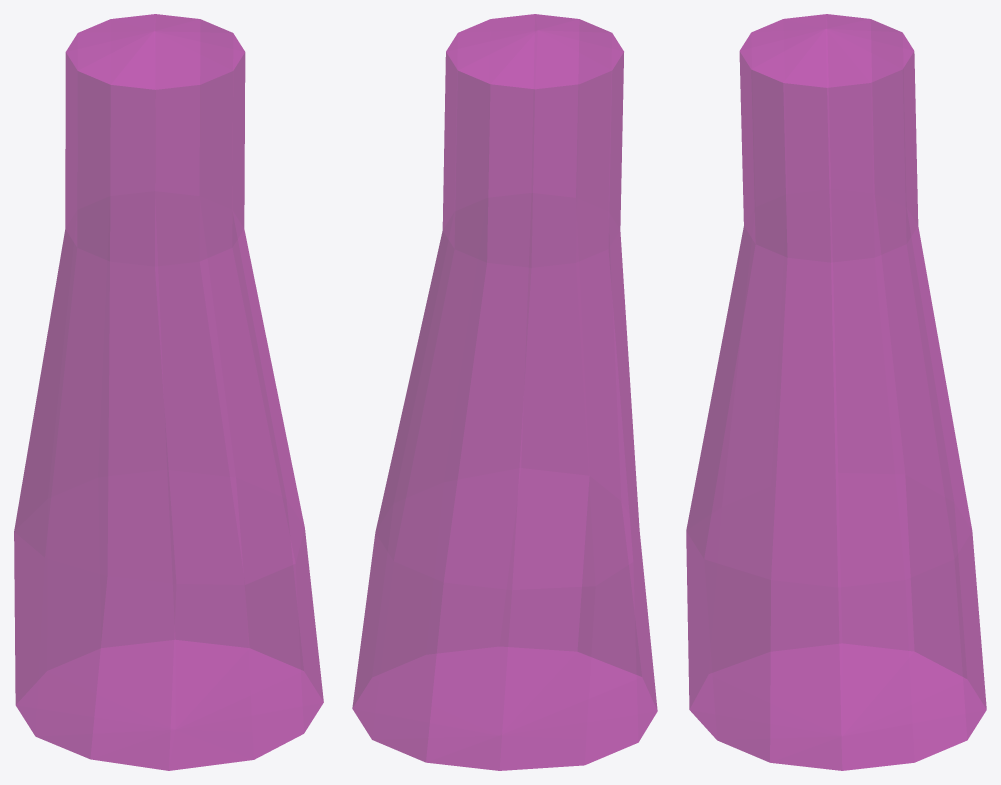
The model's file is SM_Env_Tree_04_Collision.fbx.
3 renders of one model, left to right at view 1: azimuth 30°, elevation 25°; view 2: azimuth 150°, elevation 25°; view 3: azimuth 270°, elevation 25°, orthographic. The views are drawn at different scales.
Visible parts, largest first — view 1: SM_Env_Tree_04_Collision; view 2: SM_Env_Tree_04_Collision; view 3: SM_Env_Tree_04_Collision.
Part boxes in pixels (x1,y1,x2,y2): SM_Env_Tree_04_Collision: (14, 14, 323, 770); SM_Env_Tree_04_Collision: (352, 14, 657, 770); SM_Env_Tree_04_Collision: (686, 14, 986, 770).
Size of the model in its own units: 184 by 466 by 183.
